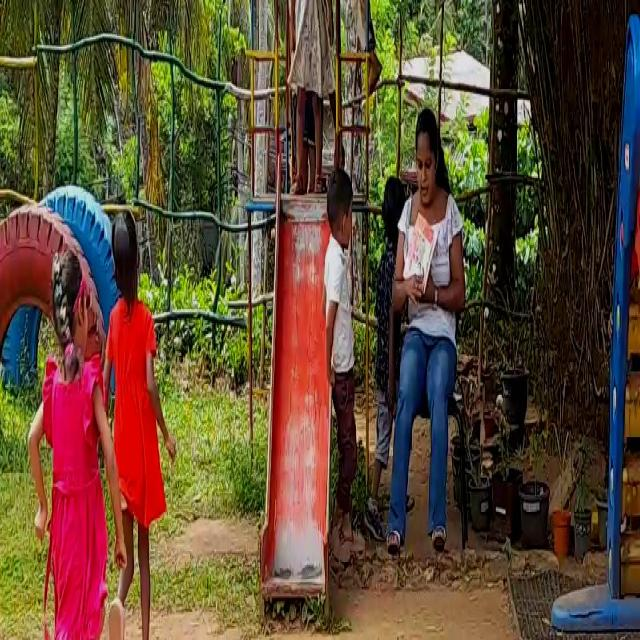adult: (397, 88, 456, 555)
child: (27, 253, 104, 640), (96, 178, 160, 640), (321, 180, 365, 555), (290, 0, 331, 197), (336, 0, 385, 109)
